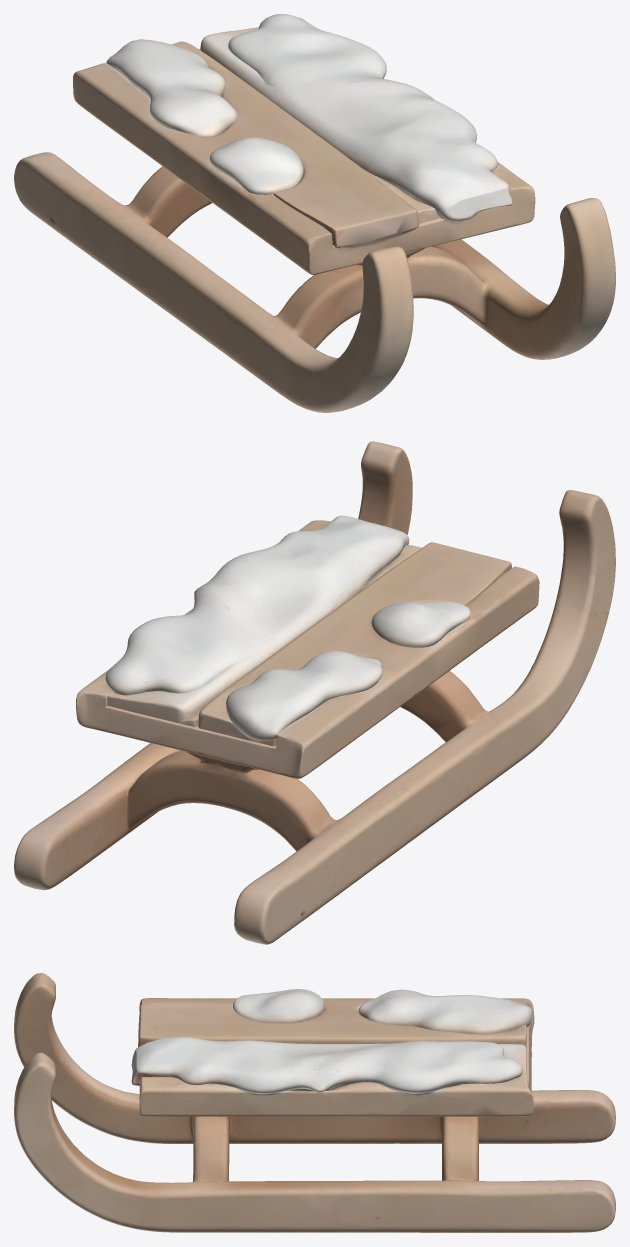
File: prop-sled.glb
The picture shows the model from 3 angles, top to bottom: view 1: azimuth 30°, elevation 25°; view 2: azimuth 150°, elevation 25°; view 3: azimuth 270°, elevation 25°; orthographic projection. The views are drawn at different scales.
Visible parts, largest first — view 1: model; view 2: model; view 3: model.
Boxes of the visible parts, x1,y1,x2,y2 form: model: (14,14,615,412); model: (14,441,615,944); model: (14,973,615,1232).
Size of the model in its own units: 0.7577 by 0.5867 by 1.9.
Materials: 1 (1 with a texture image).
